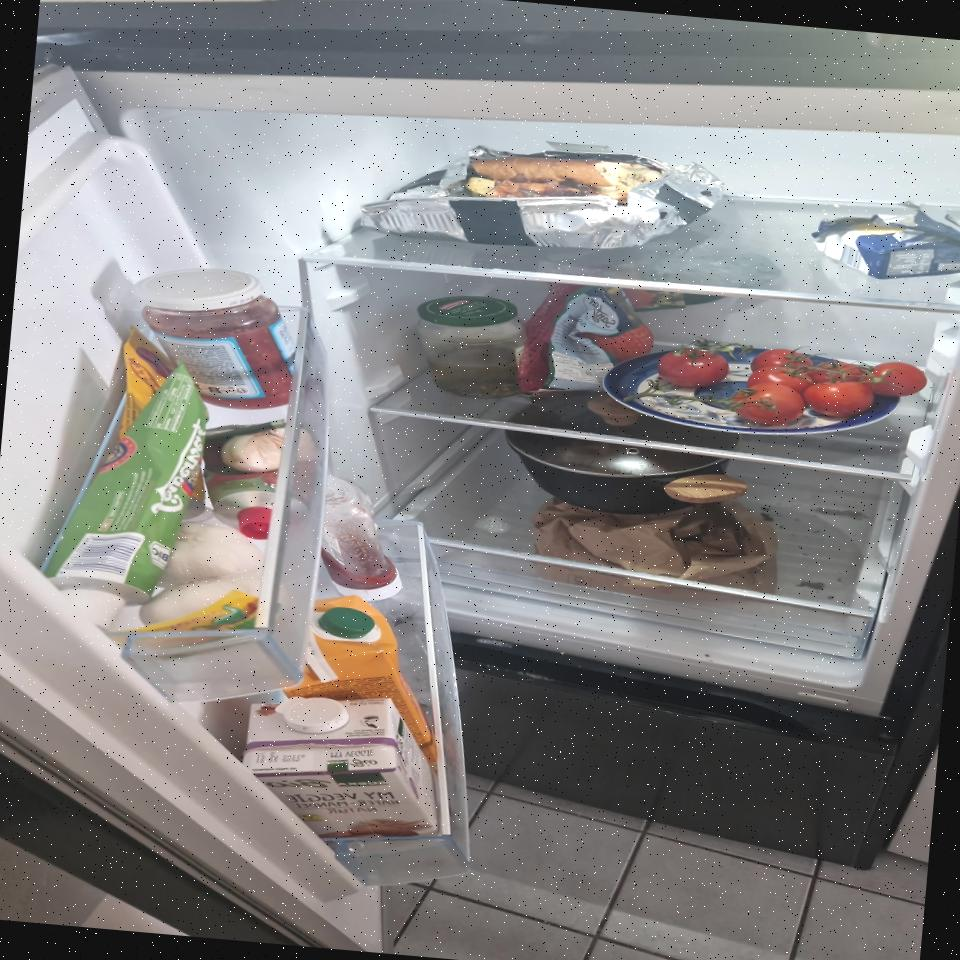Mantequilla: (807, 191, 960, 289)
Tomate: (726, 379, 805, 428), (657, 346, 731, 389), (805, 378, 872, 420), (860, 359, 928, 399), (747, 364, 810, 396), (749, 346, 814, 376), (813, 358, 866, 384)
